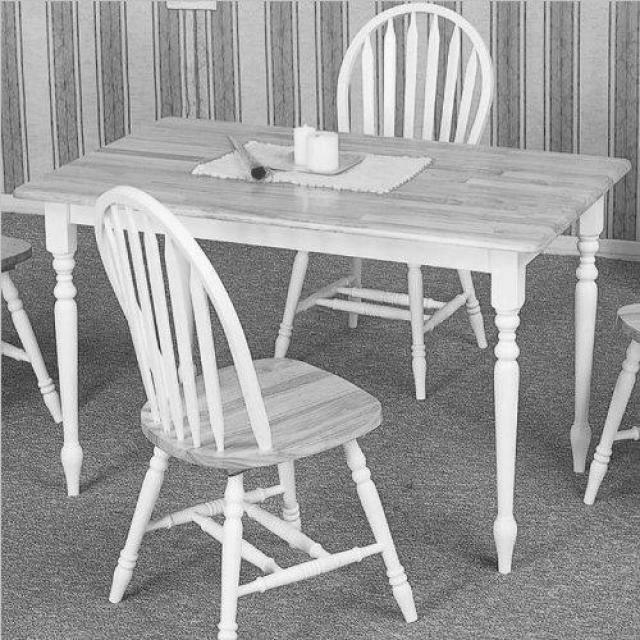chair: (94, 185, 422, 640)
table: (17, 111, 634, 578)
